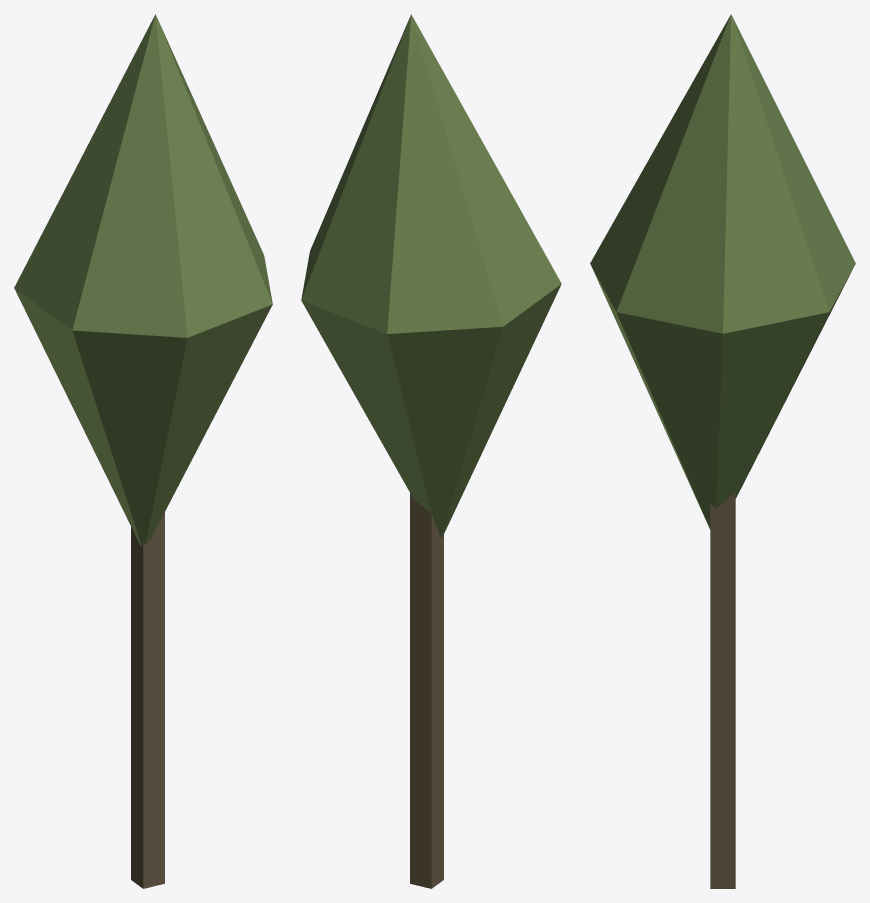
File: ua_poplar.obj
3 renders of one model, left to right at view 1: azimuth 30°, elevation 25°; view 2: azimuth 150°, elevation 25°; view 3: azimuth 270°, elevation 25°, orthographic.
Visible parts, largest first — view 1: ua_poplar; view 2: ua_poplar; view 3: ua_poplar.
Part boxes in pixels (x1=…): ua_poplar: x1=14, y1=14, x2=272, y2=888; ua_poplar: x1=301, y1=14, x2=561, y2=888; ua_poplar: x1=590, y1=14, x2=855, y2=888.
Size of the model in its own units: 1.24 by 4.61 by 1.27.
